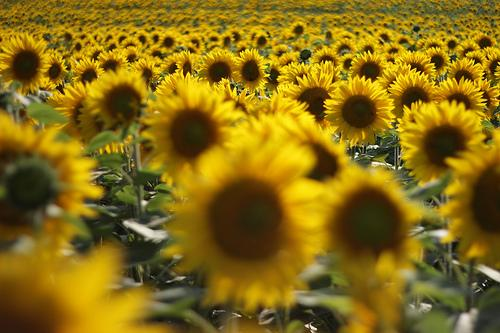sunflower: (321, 170, 422, 284), (149, 78, 240, 172), (400, 101, 482, 180), (324, 77, 391, 146), (279, 69, 343, 137), (87, 73, 150, 126), (0, 31, 48, 93), (196, 51, 244, 94), (238, 50, 270, 93), (349, 49, 390, 79), (424, 47, 451, 74)
